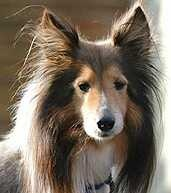dog: (18, 1, 171, 186)
